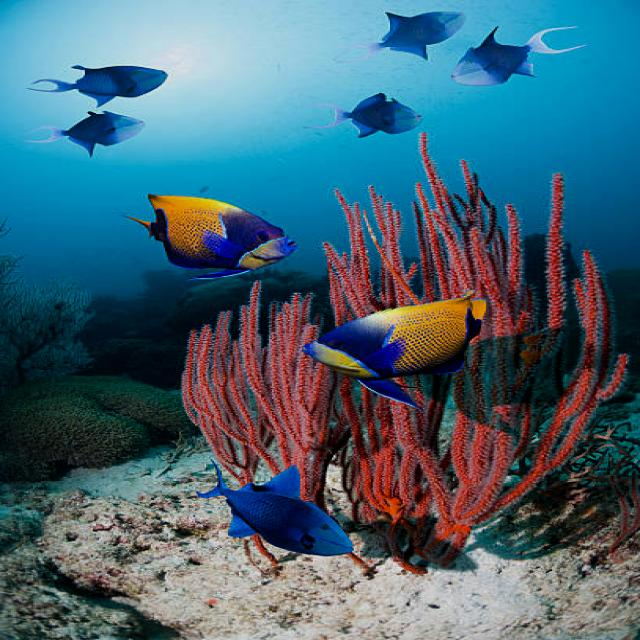Coral: (180, 130, 631, 574), (0, 375, 196, 482), (608, 468, 640, 554)
